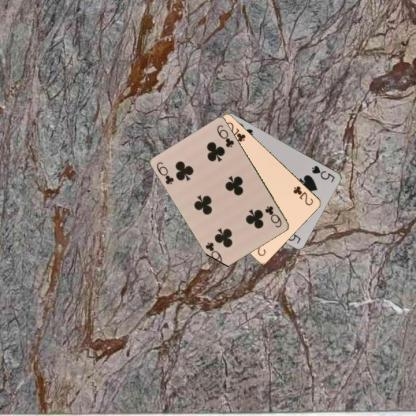2c: (291, 183, 314, 207)
5s: (310, 163, 336, 184)
6c: (262, 203, 283, 229), (154, 160, 175, 186)
